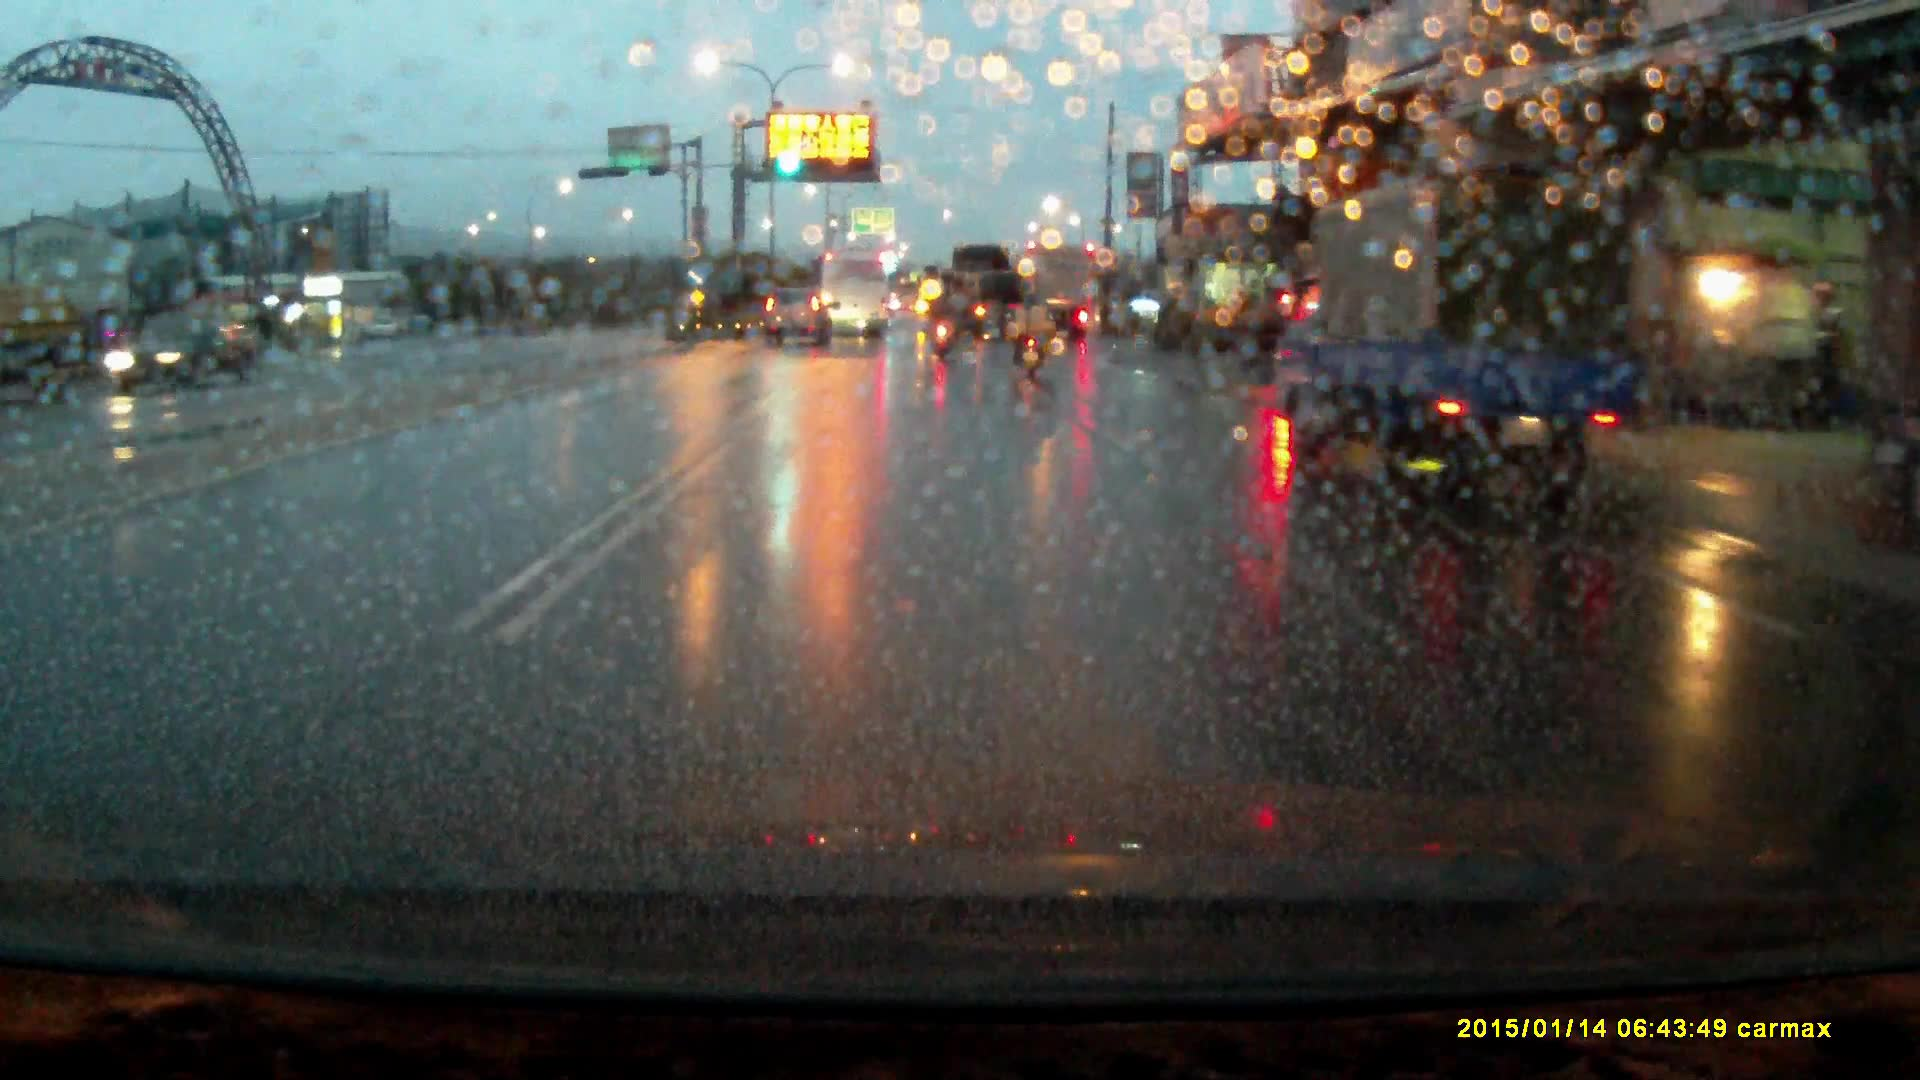rider: (1009, 288, 1051, 382), (930, 288, 957, 360)
vehicle: (1262, 164, 1651, 495), (101, 319, 248, 396), (945, 244, 1020, 339), (1025, 243, 1097, 330), (819, 248, 892, 332), (765, 285, 832, 342)
